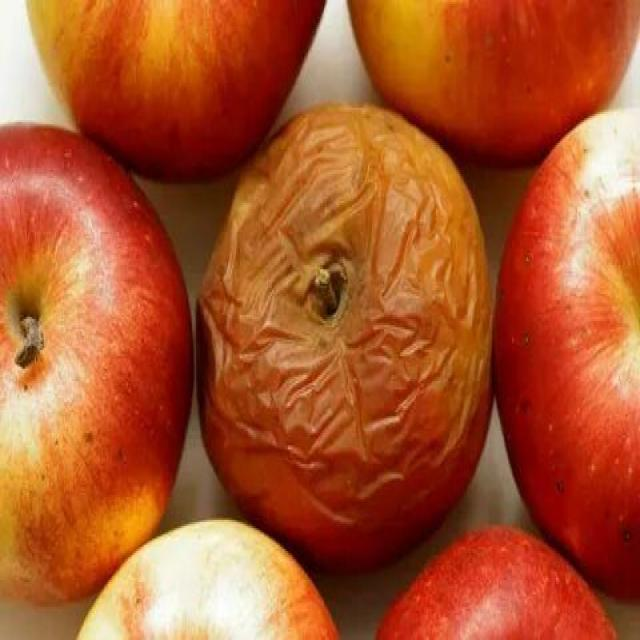Fresh Apple: (501, 126, 640, 591)
Rotten: (202, 115, 493, 558)
